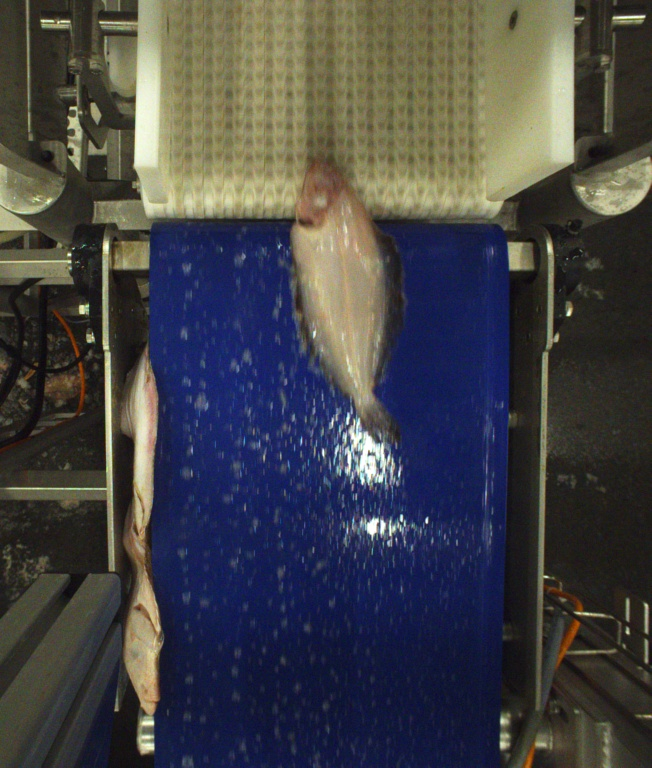WIT: (290, 158, 404, 448)
